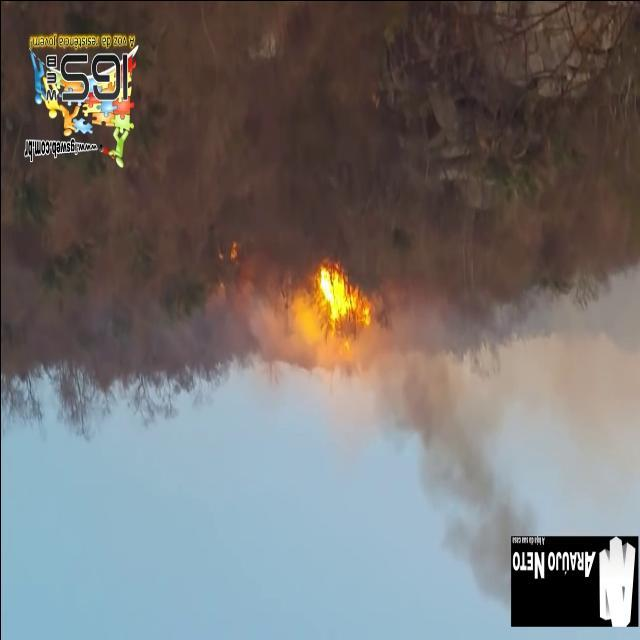Fire: (313, 266, 367, 346), (228, 240, 238, 262)
